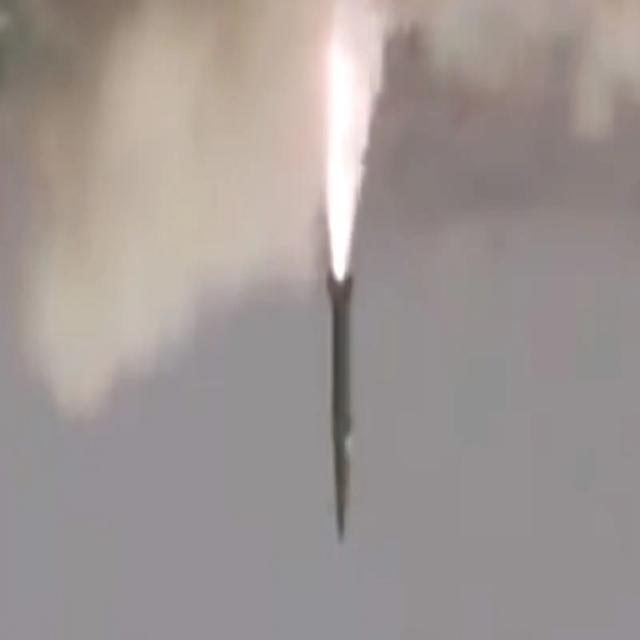missile: (322, 267, 356, 537)
